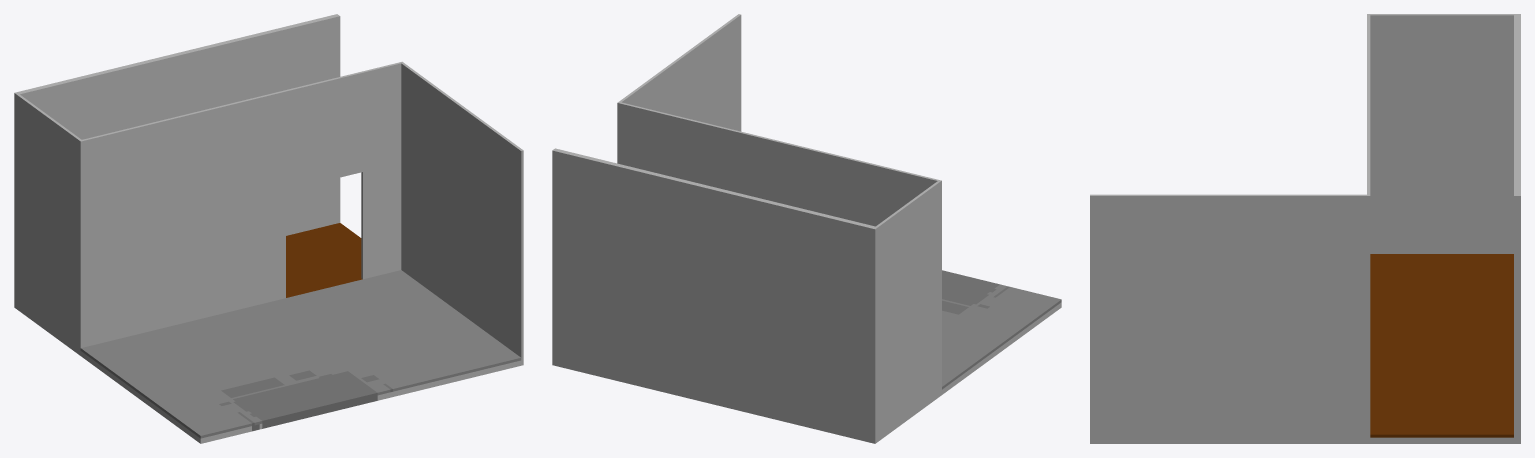
The model's file is 4x2 fourth (1)-5.obj.
3 renders of one model, left to right at view 1: azimuth 30°, elevation 25°; view 2: azimuth 150°, elevation 25°; view 3: azimuth 270°, elevation 25°, orthographic. The views are drawn at different scales.
Parts seen in each view (by area): view 1: 4x2 fourth (1)-5; view 2: 4x2 fourth (1)-5; view 3: 4x2 fourth (1)-5.
Part boxes in pixels (x1,y1,x2,y2): 4x2 fourth (1)-5: (14, 14, 523, 443); 4x2 fourth (1)-5: (552, 14, 1061, 443); 4x2 fourth (1)-5: (1090, 14, 1520, 443).
Size of the model in its own units: 126 by 80 by 126.
1 material, 1 textured.
